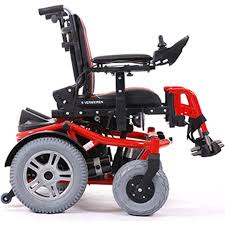wheelchair: (6, 3, 214, 209)
